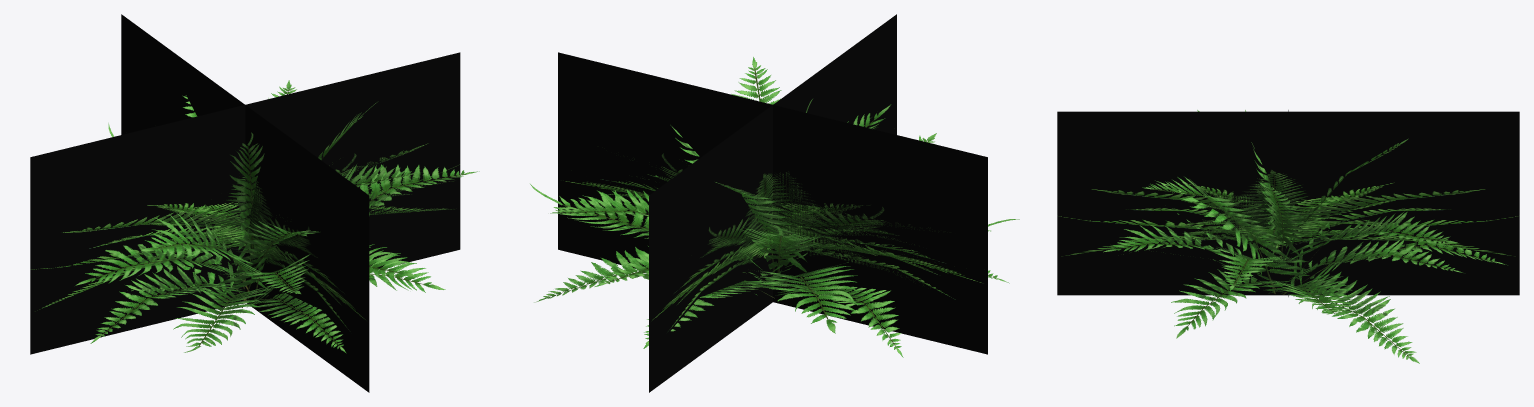
File: plant_GroundFern_01.FBX
The picture shows the model from 3 angles, left to right: view 1: azimuth 30°, elevation 25°; view 2: azimuth 150°, elevation 25°; view 3: azimuth 270°, elevation 25°; orthographic projection. The views are drawn at different scales.
Parts seen in each view (by area): view 1: Plane003, Plane002, Plane001, plant_GroundFern_01, Plane004, plant_GroundFern_002; view 2: Plane003, Plane002, Plane004, plant_GroundFern_01, Plane001, plant_GroundFern_002; view 3: Plane001, Plane004, plant_GroundFern_01, plant_GroundFern_002.
Boxes of the visible parts, left/top/right/bottom form: Plane003: left=30, top=60, right=460, bottom=354; Plane002: left=30, top=52, right=460, bottom=268; Plane001: left=185, top=103, right=369, bottom=392; plant_GroundFern_01: left=75, top=80, right=479, bottom=353; Plane004: left=121, top=14, right=360, bottom=220; plant_GroundFern_002: left=76, top=88, right=472, bottom=349; Plane003: left=558, top=52, right=987, bottom=347; Plane002: left=559, top=67, right=987, bottom=354; Plane004: left=649, top=16, right=896, bottom=392; plant_GroundFern_01: left=530, top=57, right=1019, bottom=357; Plane001: left=708, top=14, right=896, bottom=313; plant_GroundFern_002: left=532, top=59, right=1012, bottom=350; Plane001: left=1152, top=111, right=1519, bottom=295; Plane004: left=1057, top=111, right=1311, bottom=295; plant_GroundFern_01: left=1103, top=110, right=1507, bottom=363; plant_GroundFern_002: left=1109, top=180, right=1489, bottom=359.
Size of the model in its own units: 2.91 by 1.26 by 2.85.
